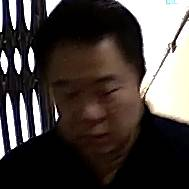caibo: (38, 31, 148, 156)
